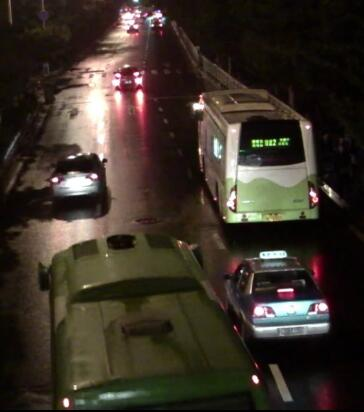bus: (33, 229, 277, 409), (190, 86, 321, 229)
car: (226, 251, 334, 343), (47, 153, 108, 204), (112, 65, 143, 91), (123, 18, 140, 33), (149, 15, 163, 30)
